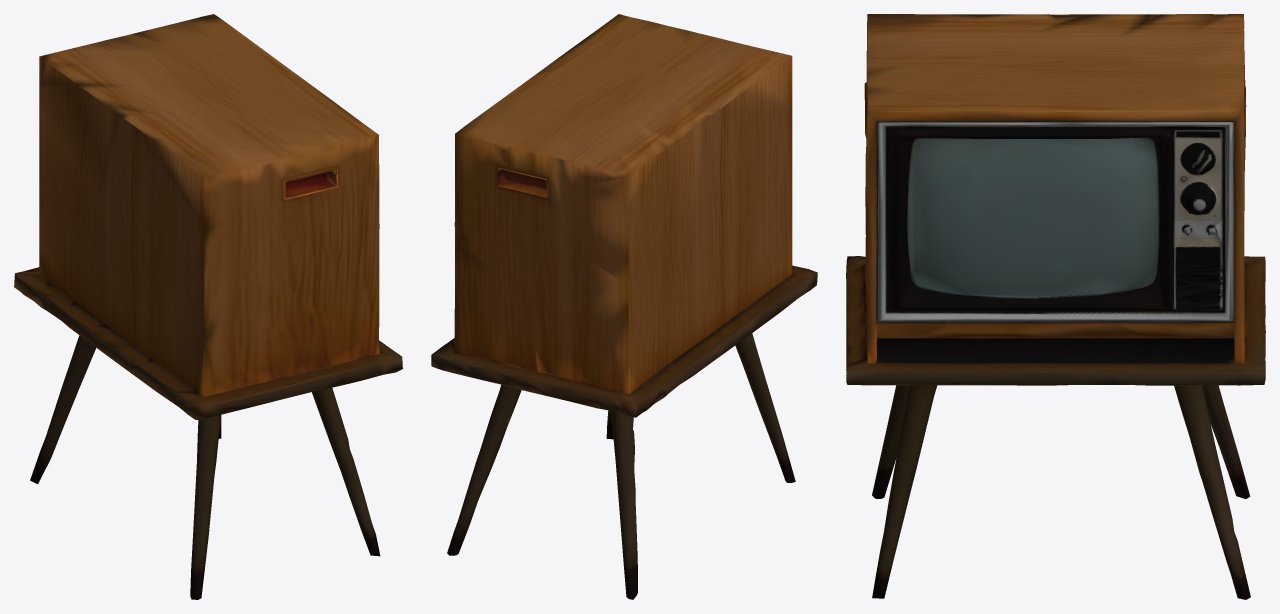
3 renders of one model, left to right at view 1: azimuth 30°, elevation 25°; view 2: azimuth 150°, elevation 25°; view 3: azimuth 270°, elevation 25°, orthographic. The views are drawn at different scales.
Parts seen in each view (by area): view 1: tripo_node_1d7cffb4; view 2: tripo_node_1d7cffb4; view 3: tripo_node_1d7cffb4.
Boxes of the visible parts, bbox=[...] form: tripo_node_1d7cffb4: bbox=[14, 14, 402, 599]; tripo_node_1d7cffb4: bbox=[431, 14, 817, 599]; tripo_node_1d7cffb4: bbox=[846, 14, 1265, 599].
Bounding box in the file's own units: 0.5121 × 0.9998 × 0.7842.
1 material, 1 textured.
